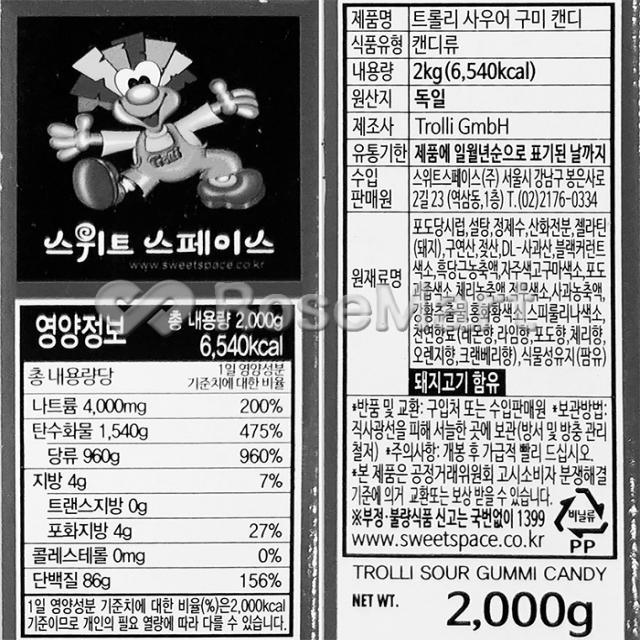Nutrition Label: (15, 300, 300, 639)
